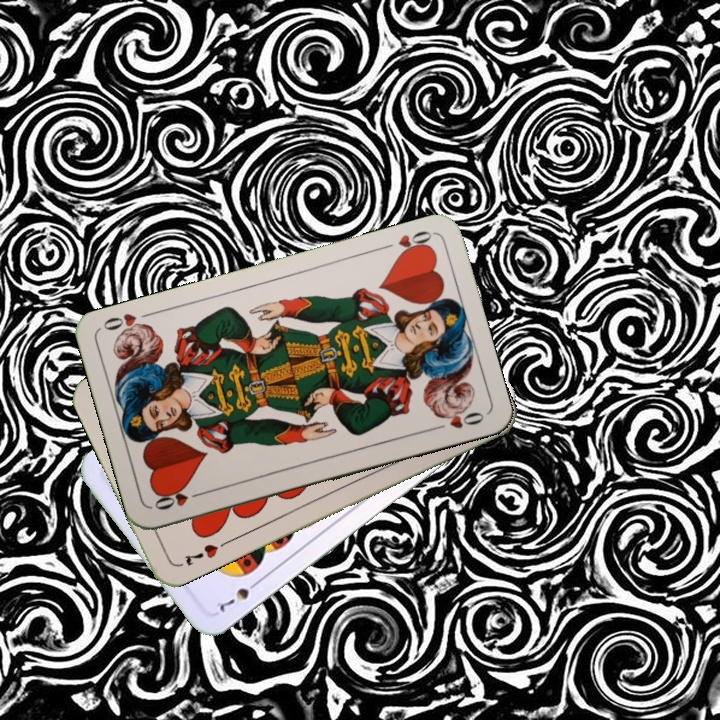H7: (179, 539, 221, 569)
HO: (377, 226, 435, 259), (150, 486, 208, 513)
S7: (211, 575, 264, 617)
